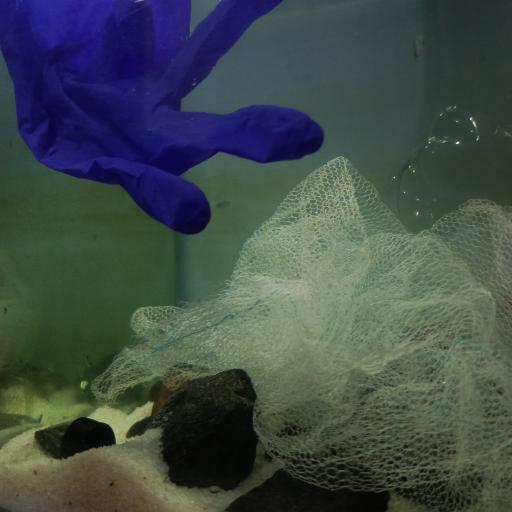glove: (0, 0, 324, 235)
net: (89, 155, 511, 512)
plastic_bottle: (382, 98, 512, 225)
